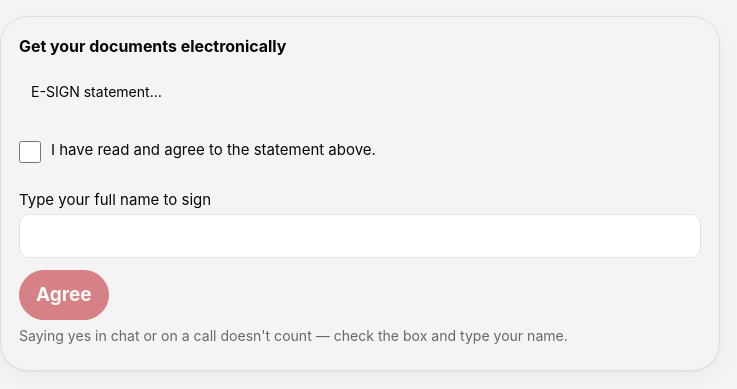
it: ConsentCard › esign: checkbox + typed name required; evidence carries text hash and party
Later steps or results of the test are not shown.
Expected: the button "Agree" is disabled, 19,270 -> 109,320
Click the checkbox. click: point(30, 152)
box: 19,140 -> 41,162
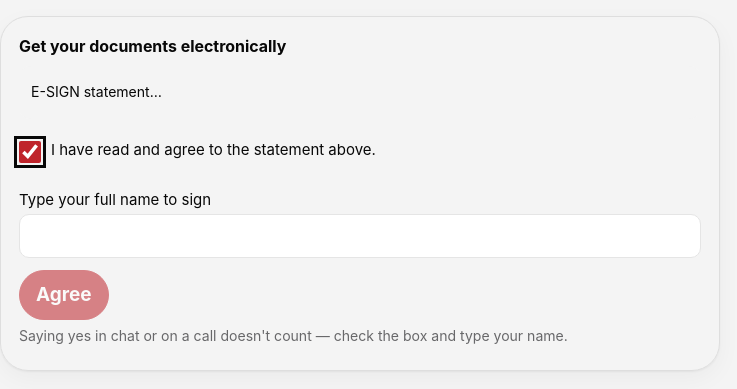
Expected: the button "Agree" is disabled, 19,270 -> 109,320
Type "Maya Chen" into the field labelled "Type your full name to sign". click: point(360, 236)
box: 19,214 -> 701,258
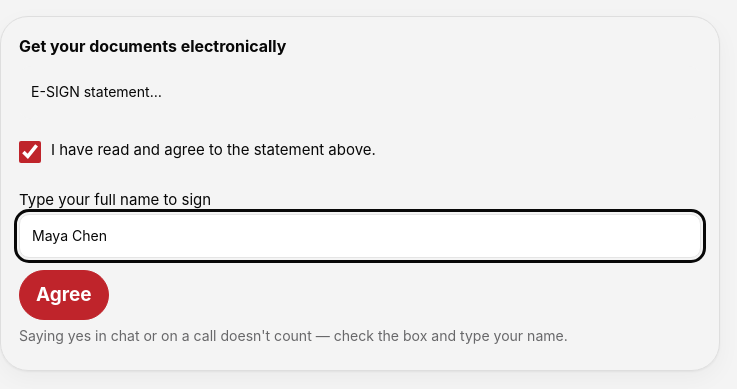
Result: the button "Agree" is enabled at 19,270 -> 109,320
